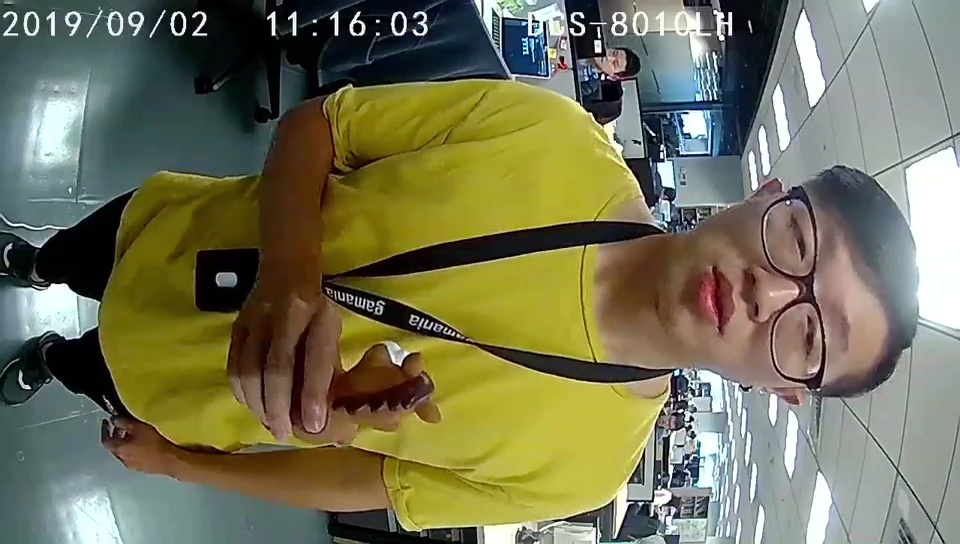horse: (330, 341, 442, 445)
